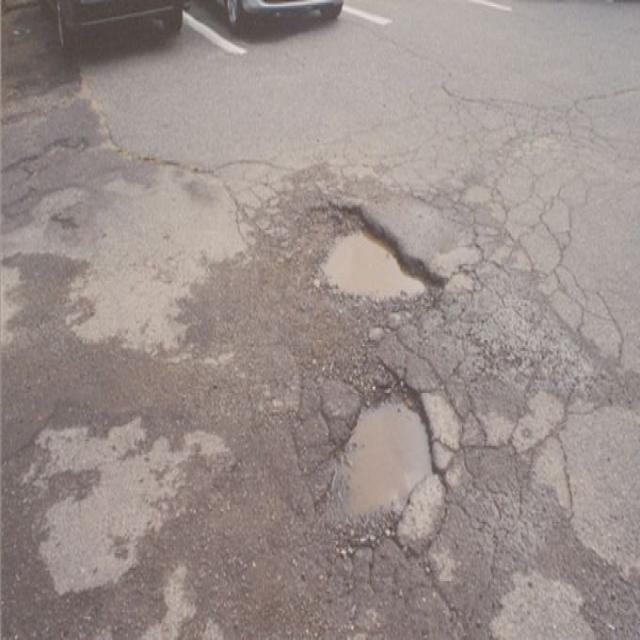Pothole: (319, 377, 447, 547), (306, 197, 448, 304)
